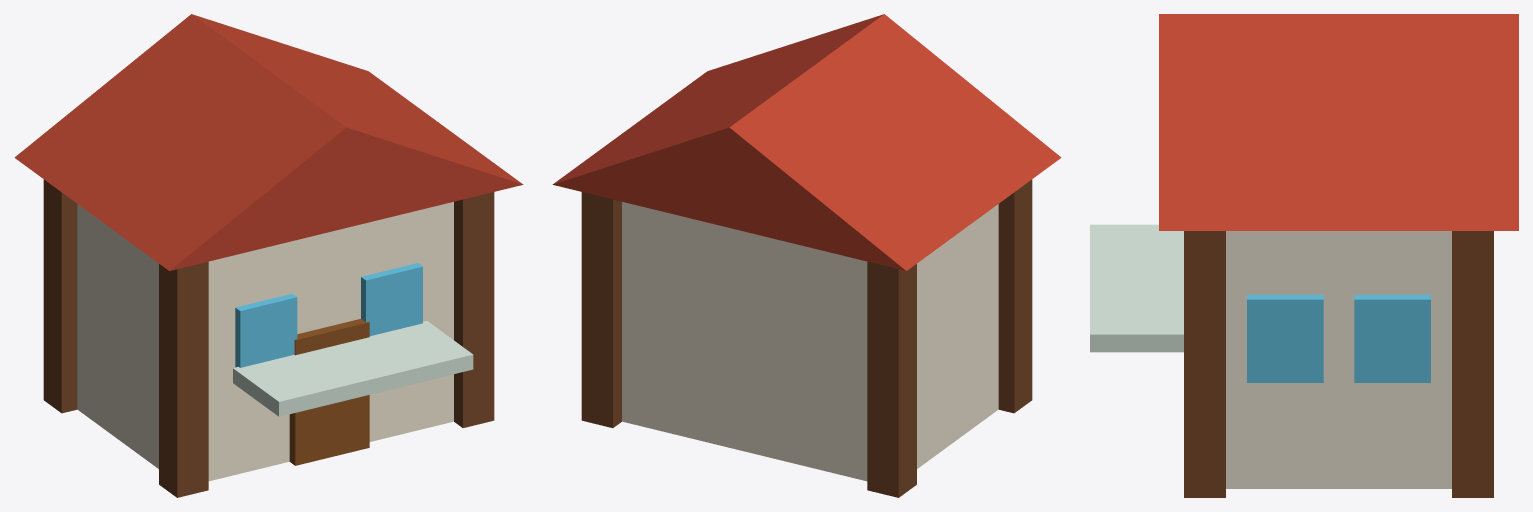
File: awning_stall.glb
3 views of the same model, side by side, from view 1: azimuth 30°, elevation 25°; view 2: azimuth 150°, elevation 25°; view 3: azimuth 270°, elevation 25° (orthographic). The views are drawn at different scales.
Visible parts, largest first — view 1: awning; view 2: awning; view 3: awning.
Part boxes in pixels (<box>): awning: <box>14,14,523,497</box>; awning: <box>552,14,1061,497</box>; awning: <box>1090,14,1518,497</box>.
Bounding box in the file's own units: 1.24 × 1.14 × 1.12.
